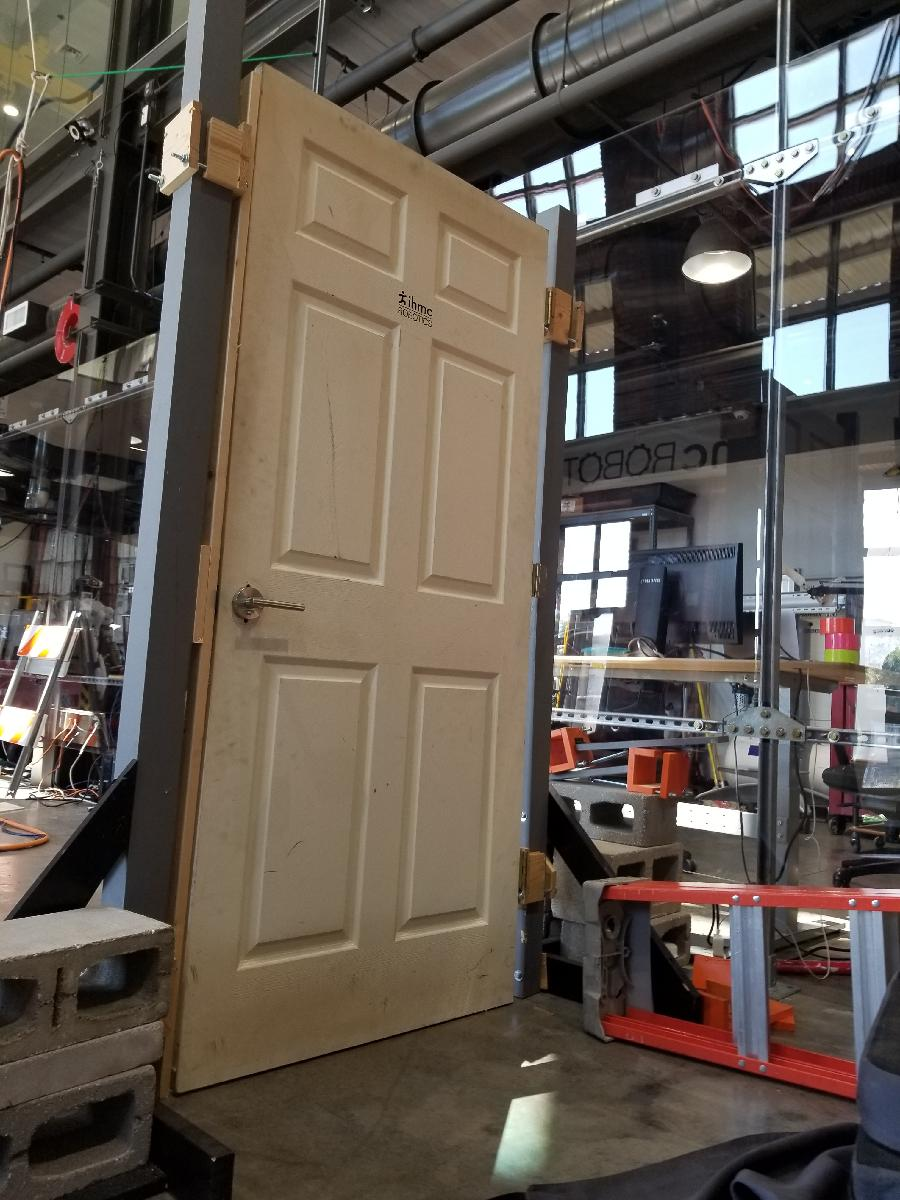door: (168, 57, 555, 1099)
doorHandle: (226, 580, 317, 642)
